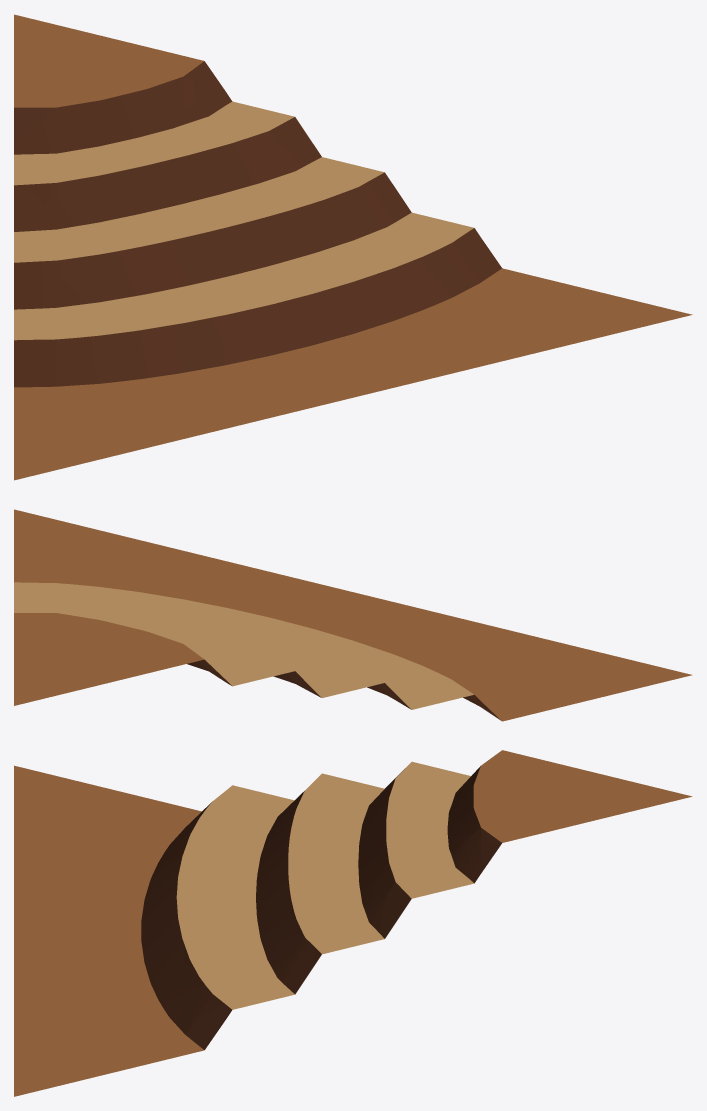
Rendered from MODULE_STEPWELL_RAMP_CORNER.fbx.
The picture shows the model from 3 angles, top to bottom: view 1: azimuth 30°, elevation 25°; view 2: azimuth 150°, elevation 25°; view 3: azimuth 270°, elevation 25°; orthographic projection.
Visible parts, largest first — view 1: MODULE_STEPWELL_RAMP_CORNER__export; view 2: MODULE_STEPWELL_RAMP_CORNER__export; view 3: MODULE_STEPWELL_RAMP_CORNER__export.
Boxes of the visible parts, left/top/right/bottom form: MODULE_STEPWELL_RAMP_CORNER__export: left=14, top=14, right=692, bottom=480; MODULE_STEPWELL_RAMP_CORNER__export: left=14, top=509, right=692, bottom=721; MODULE_STEPWELL_RAMP_CORNER__export: left=14, top=750, right=692, bottom=1096.
Size of the model in its own units: 100 by 18.95 by 86.6.
